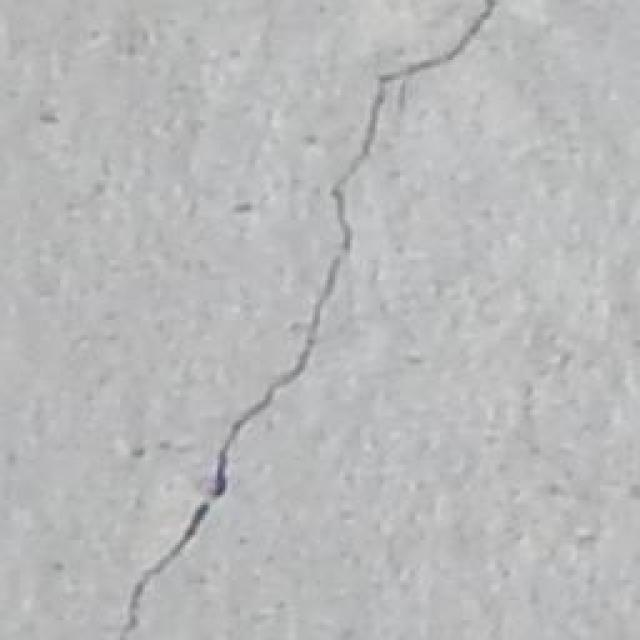concrete-crack: (128, 0, 498, 630)
